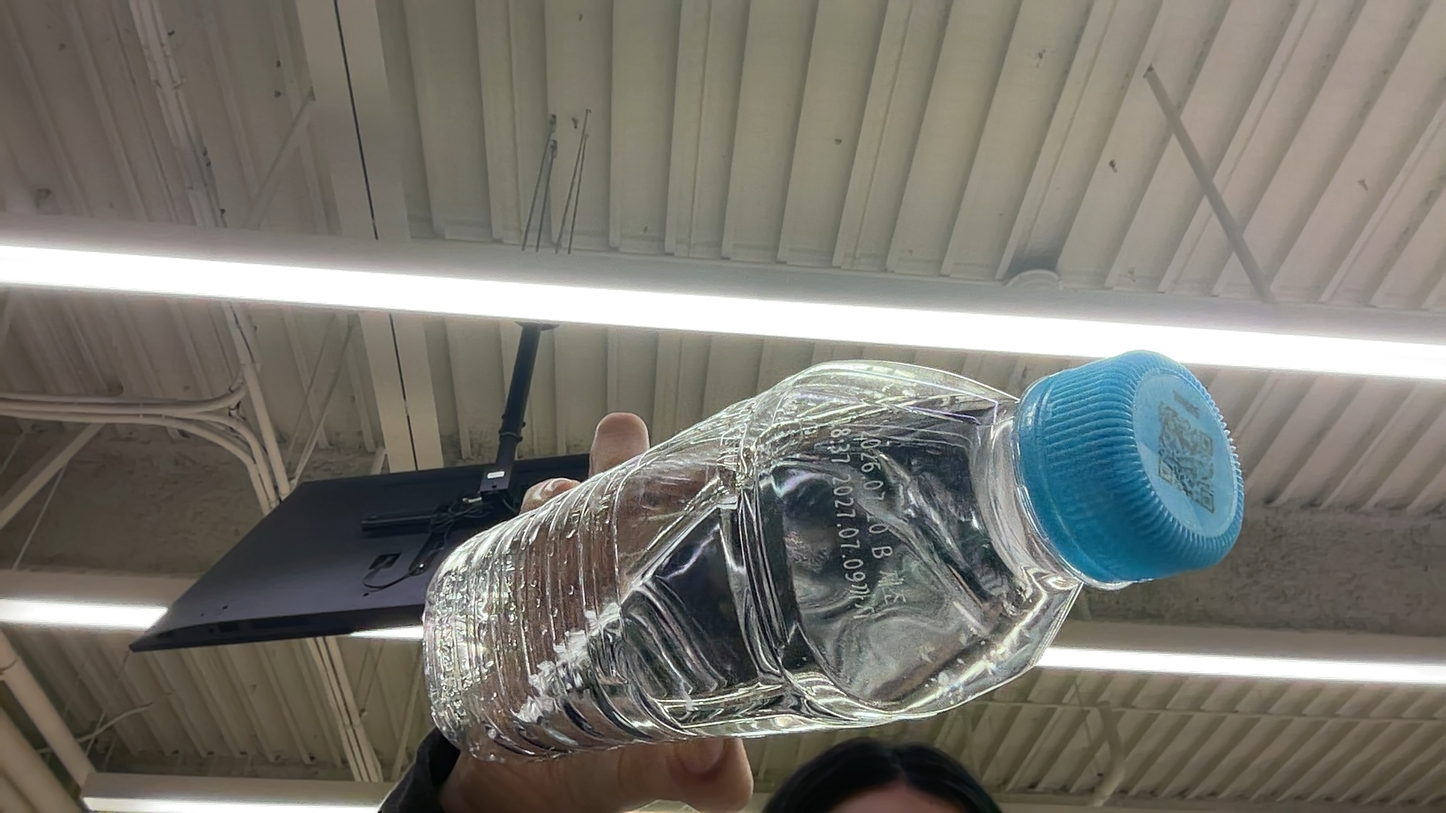Plastic: (1007, 355, 1241, 584)
